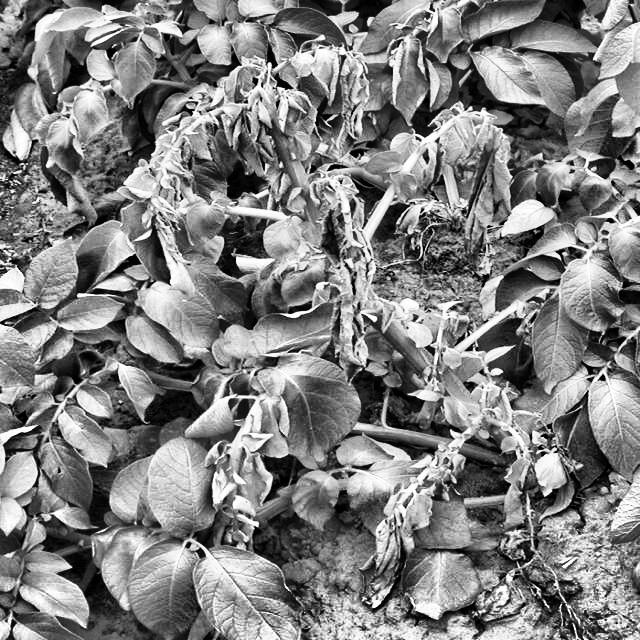plants: (130, 41, 612, 624)
